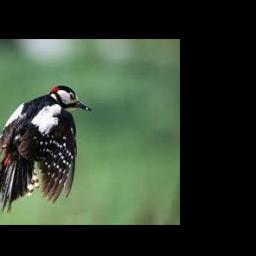Woodpecker: (0, 85, 93, 215)
